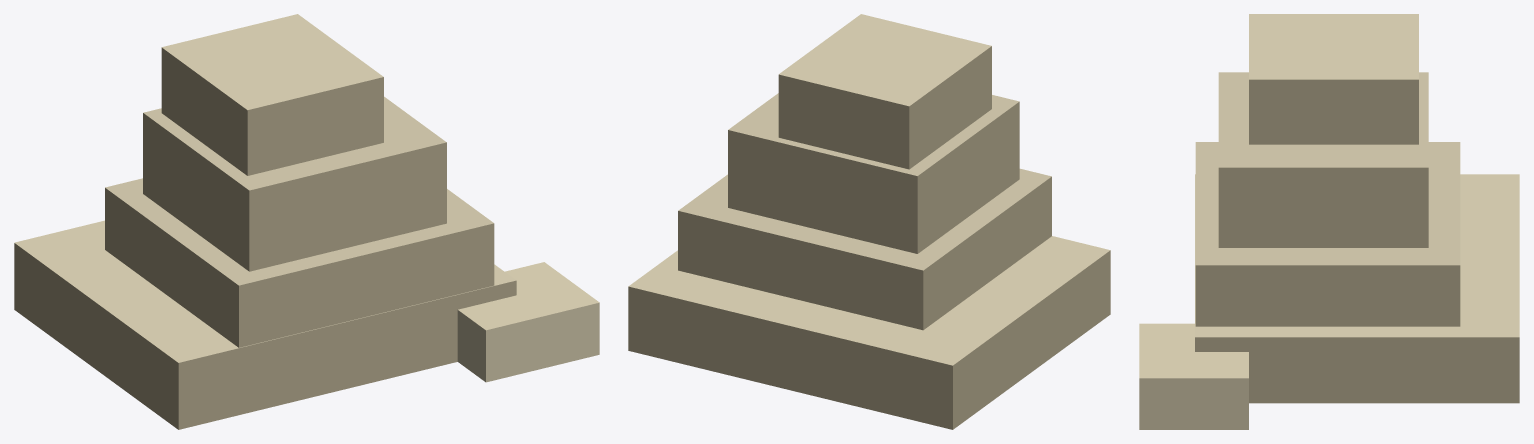
The model's file is limestone_a.glb.
3 views of the same model, side by side, from view 1: azimuth 30°, elevation 25°; view 2: azimuth 150°, elevation 25°; view 3: azimuth 270°, elevation 25° (orthographic). The views are drawn at different scales.
Visible parts, largest first — view 1: limestone_a; view 2: limestone_a; view 3: limestone_a.
Part boxes in pixels (box(x1,y1,x2,y2)): limestone_a: box(14, 14, 599, 429); limestone_a: box(628, 14, 1110, 429); limestone_a: box(1139, 14, 1519, 429).
Size of the model in its own units: 1.1 by 0.7418 by 0.9373.
